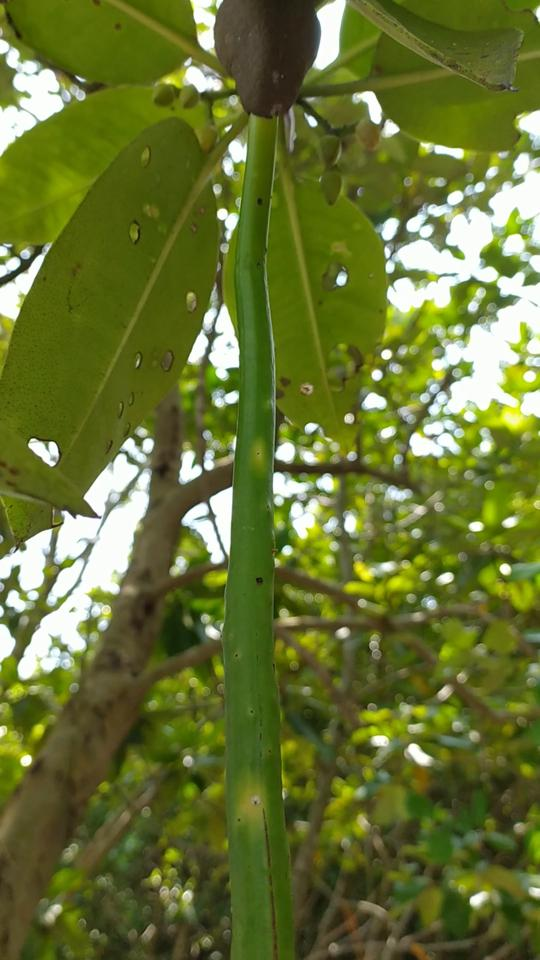mentah: (205, 1, 324, 956)
